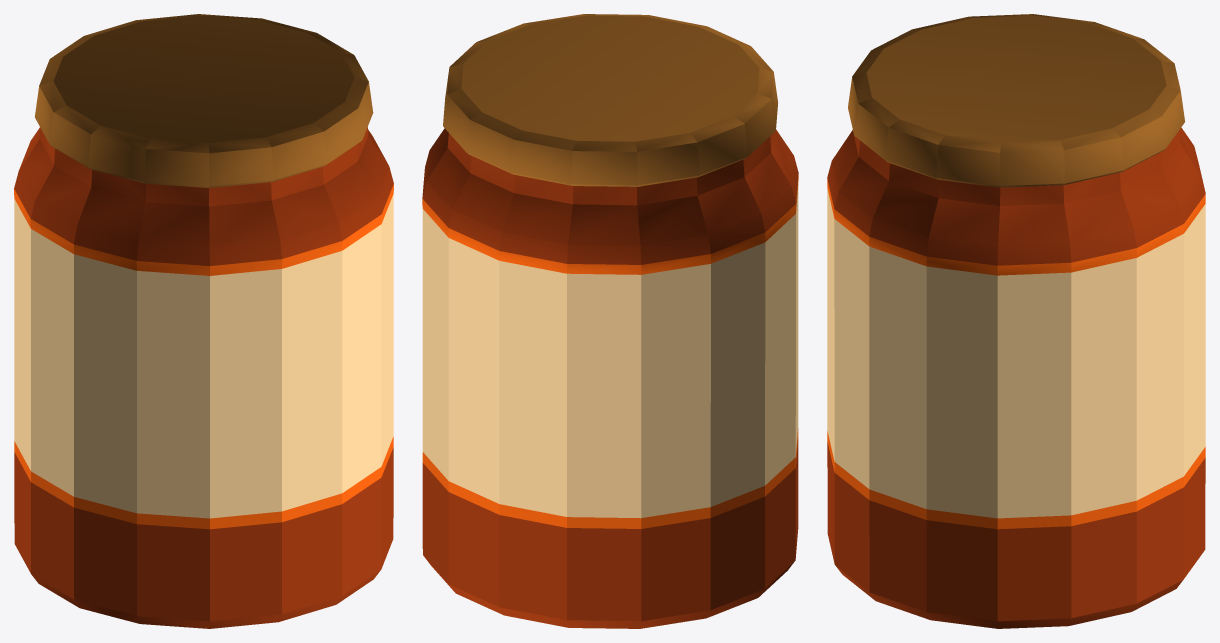
Rendered from Honey Grapefruit Tea.fbx.
The picture shows the model from 3 angles, left to right: view 1: azimuth 30°, elevation 25°; view 2: azimuth 150°, elevation 25°; view 3: azimuth 270°, elevation 25°; orthographic projection.
Visible parts, largest first — view 1: Node 0; view 2: Node 0; view 3: Node 0.
Boxes of the visible parts, left/top/right/bottom form: Node 0: left=14, top=14, right=393, bottom=628; Node 0: left=422, top=14, right=798, bottom=628; Node 0: left=827, top=14, right=1205, bottom=628.
Size of the model in its own units: 0.1075 by 0.1483 by 0.1075.
